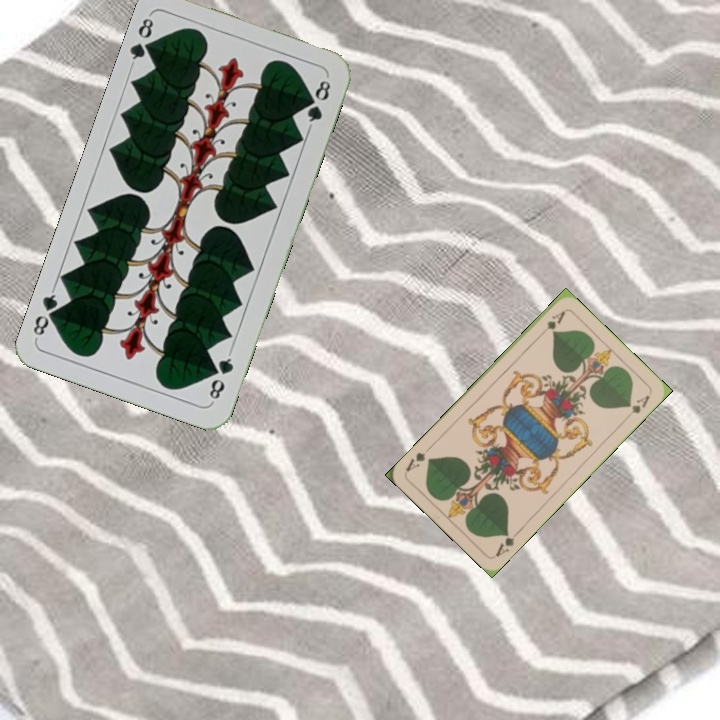G8: (126, 11, 160, 68), (205, 348, 236, 405)
GA: (535, 307, 568, 340), (491, 526, 523, 560)
